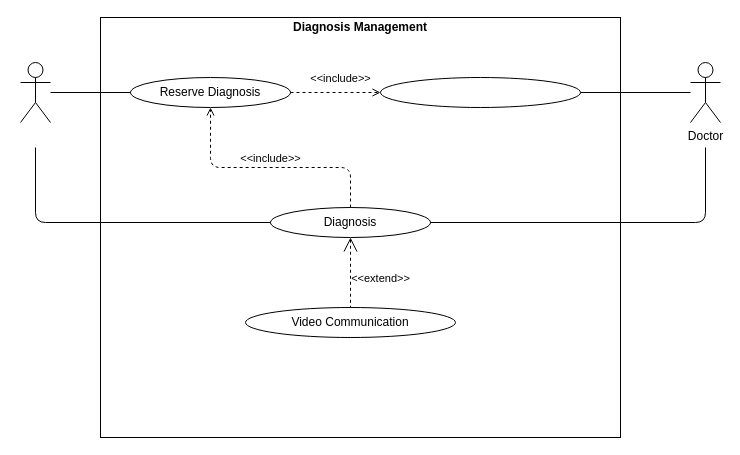
The diagram is 740 pixels wide and 455 high, and some of its shapes have lost their labels. The shapes that lost their labels are listed below. From the top down, each one's centre as x and y in pixels, then its label:
the point at 35,92: Patient
the point at 480,92: Check Patient Information
